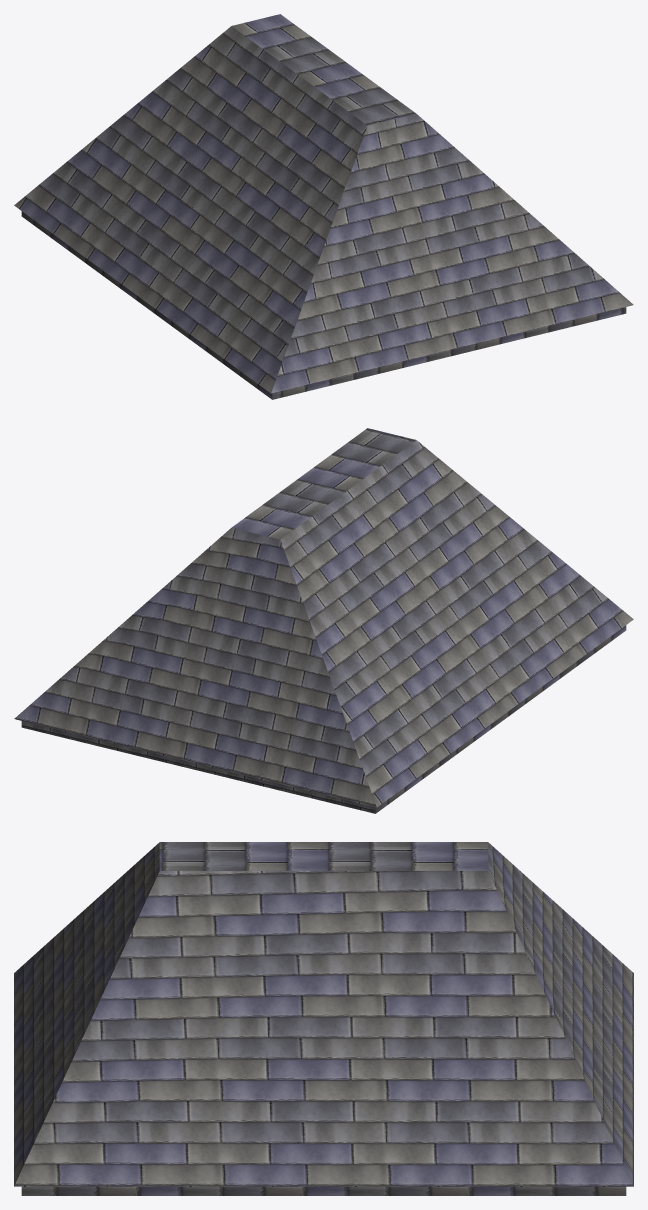
File: roof2.fbx
The picture shows the model from 3 angles, top to bottom: view 1: azimuth 30°, elevation 25°; view 2: azimuth 150°, elevation 25°; view 3: azimuth 270°, elevation 25°; orthographic projection. The views are drawn at different scales.
Visible parts, largest first — view 1: pCube1; view 2: pCube1; view 3: pCube1.
Boxes of the visible parts, <box> form: pCube1: <box>14,14,633,399</box>; pCube1: <box>14,428,633,813</box>; pCube1: <box>14,842,633,1195</box>.
Size of the model in its own units: 6.61 by 3.39 by 8.1.
Materials: 1 (1 with a texture image).
